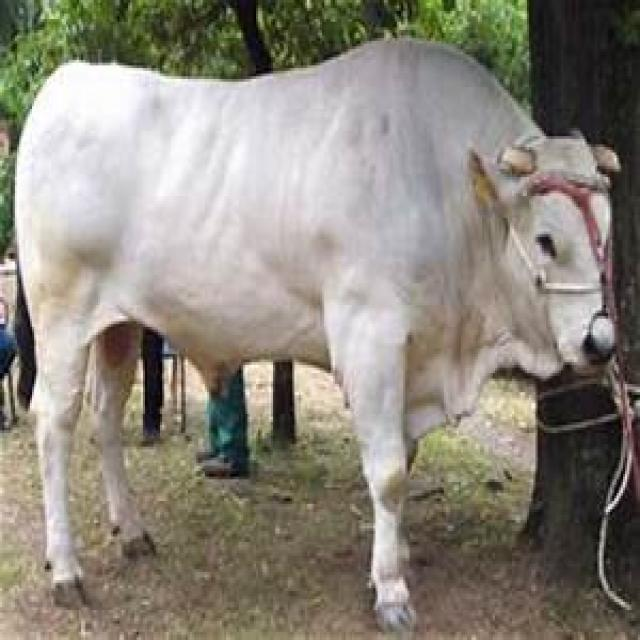cow: (15, 41, 614, 626)
